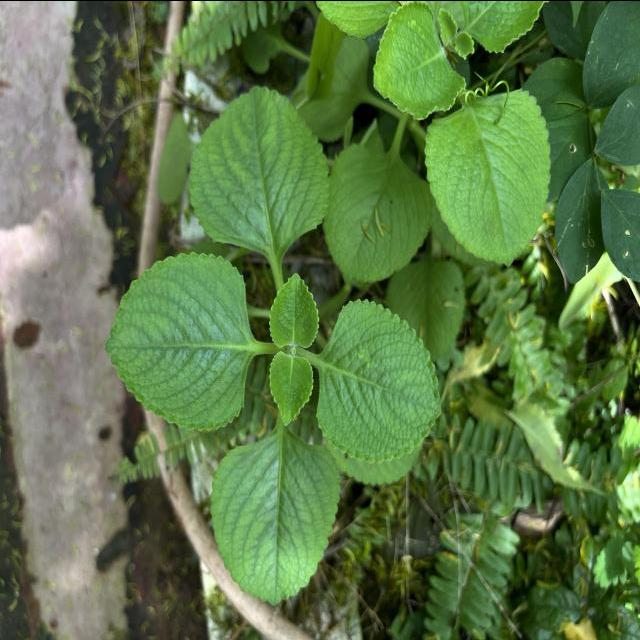Plectranthus barbatus: (103, 249, 255, 431), (186, 81, 332, 252), (208, 430, 344, 607), (424, 85, 552, 268), (316, 296, 444, 464), (322, 138, 436, 284), (372, 0, 466, 121), (268, 270, 320, 348), (267, 349, 315, 426), (436, 6, 458, 45)
